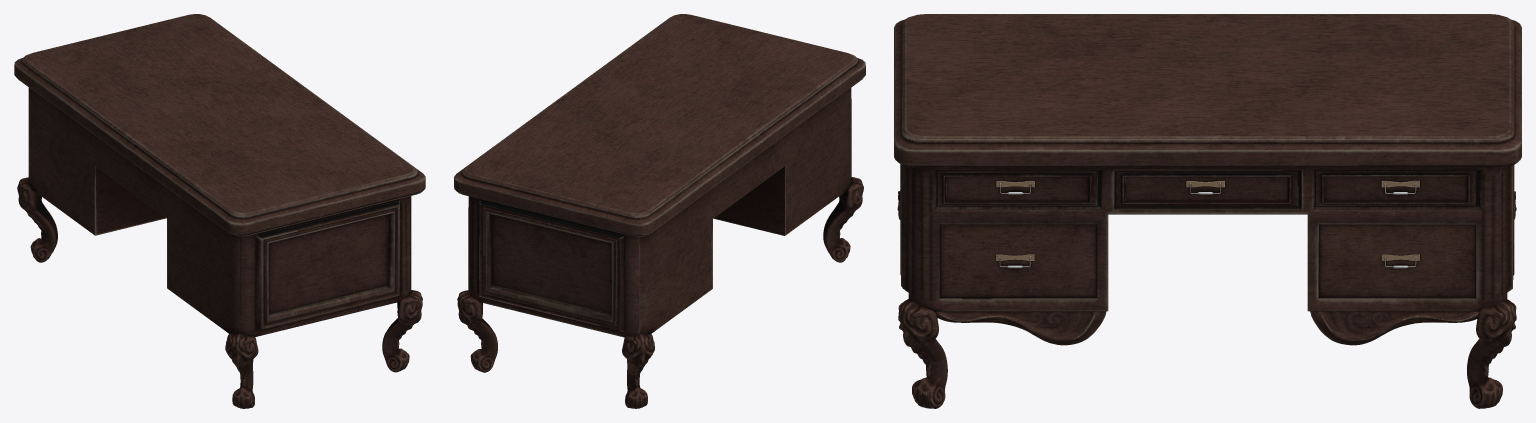
3 views of the same model, side by side, from view 1: azimuth 30°, elevation 25°; view 2: azimuth 150°, elevation 25°; view 3: azimuth 270°, elevation 25° (orthographic). The views are drawn at different scales.
Visible parts, largest first — view 1: Table, TableLeg, TableLeg.005, TableLeg.006; view 2: Table, TableLeg.004, TableLeg.006, TableLeg.005; view 3: Table, Drawers, UnderTableTrim, TableLeg, TableLeg.004.
Boxes of the visible parts, box(x1,y1,x2,y2) form: Table: box(14, 14, 425, 336); TableLeg: box(382, 290, 422, 372); TableLeg.005: box(17, 177, 57, 262); TableLeg.006: box(225, 333, 258, 408); Table: box(454, 14, 865, 337); TableLeg.004: box(457, 290, 497, 372); TableLeg.006: box(823, 177, 863, 262); TableLeg.005: box(622, 333, 654, 408); Table: box(894, 14, 1521, 311); Drawers: box(937, 170, 1475, 297); UnderTableTrim: box(936, 311, 1479, 345); TableLeg: box(898, 299, 947, 408); TableLeg.004: box(1467, 299, 1516, 408).
Bounding box in the file's own units: 67.81 × 66.53 × 136.
